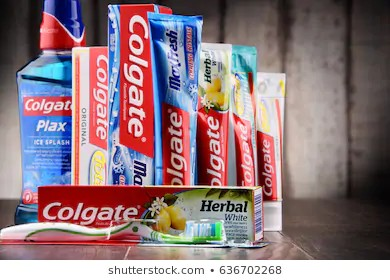colgate-Plax: (15, 1, 85, 221)
colgate-medium: (37, 187, 263, 241), (107, 2, 167, 189)
colgate-small: (71, 46, 107, 187)
toothbrush: (1, 218, 227, 249)
